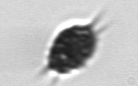plankton: (40, 15, 102, 80)
